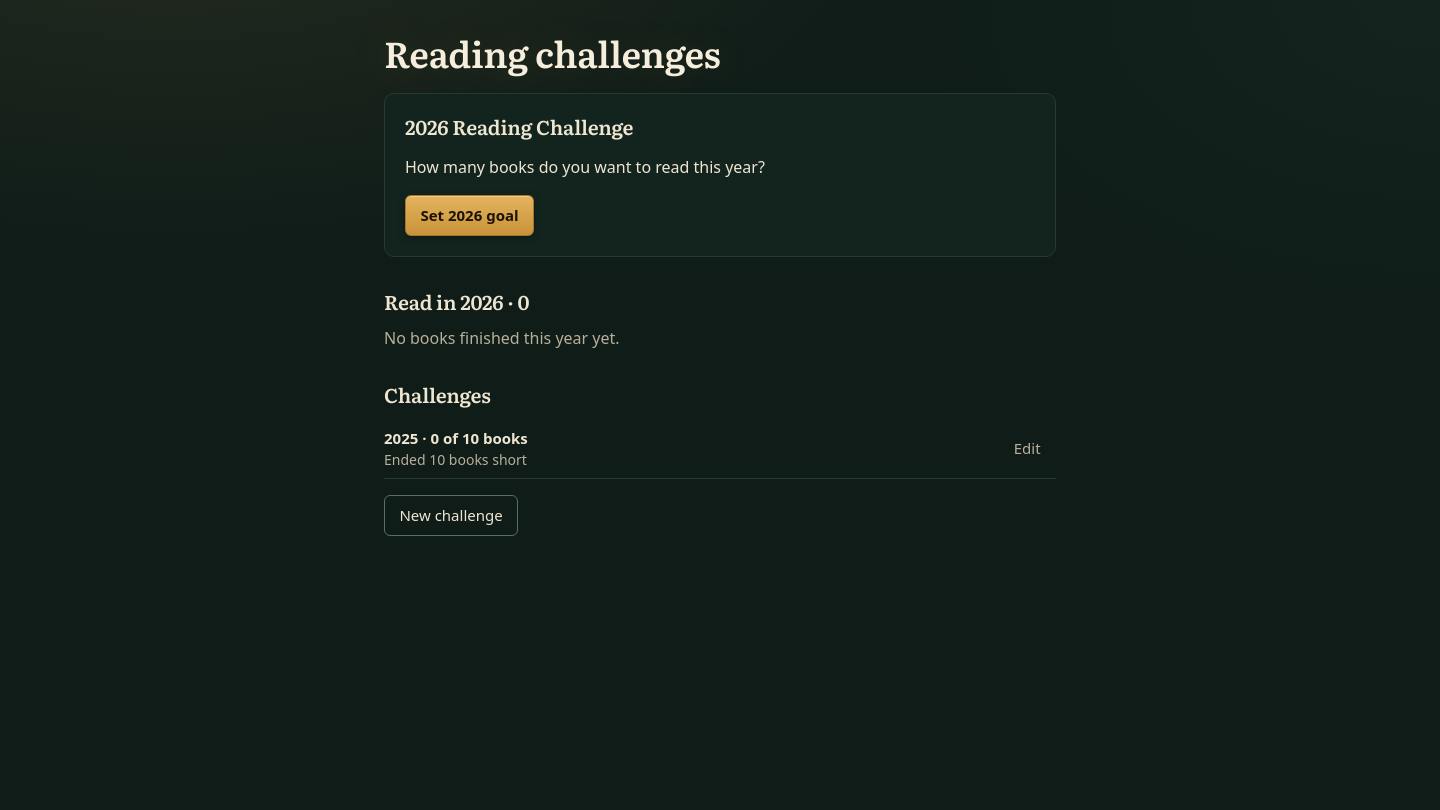
Test case: reading challenges › aGoalCanBeEditedAndRemoved
Click the button with aria-label "Edit 2025 goal" at (1027, 449), box x1=998 y1=428 x2=1056 y2=469
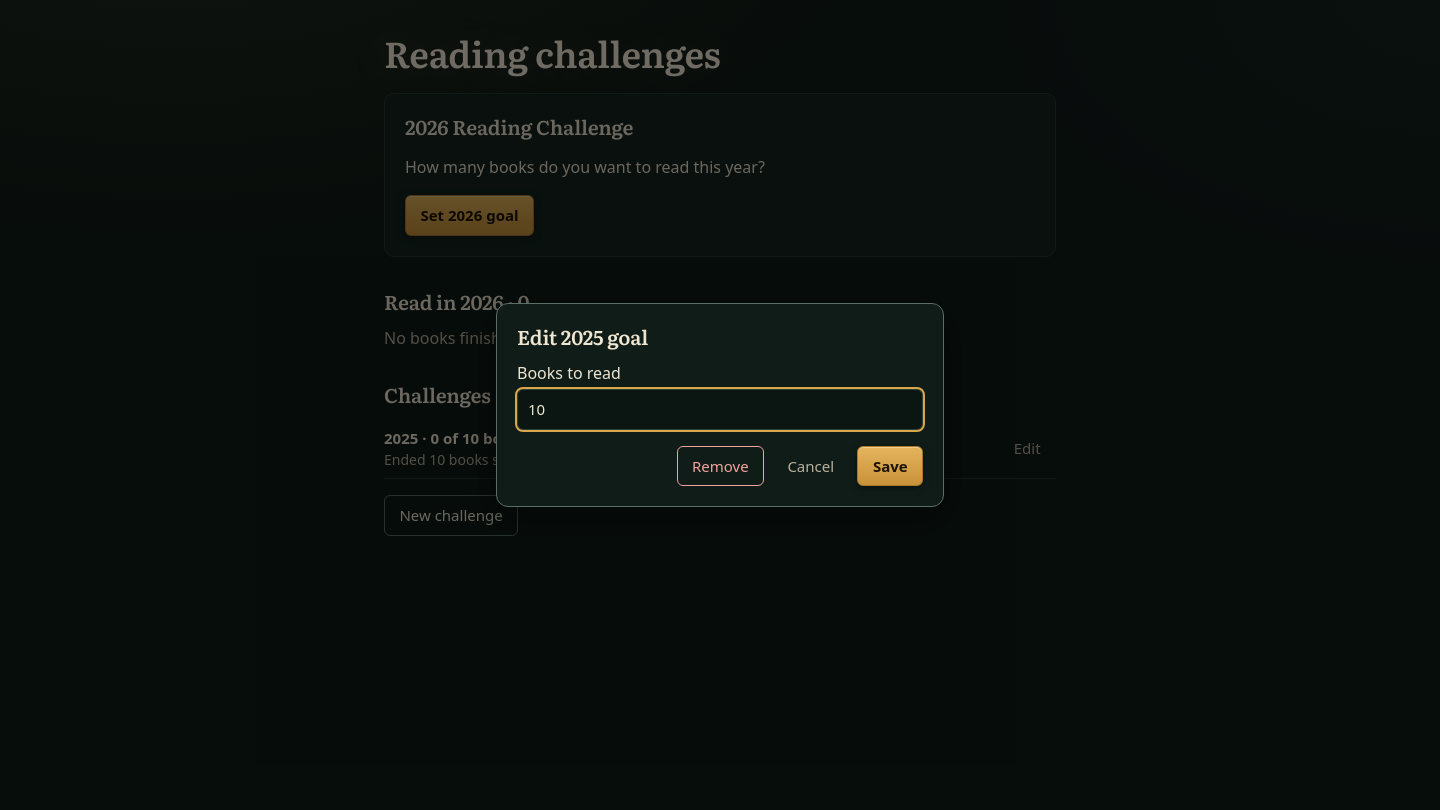
Expected: the field labelled "Books to read" holds "10"
Replace the text in the field labelled "Books to read" with "15" at (720, 409), box x1=517 y1=389 x2=923 y2=430
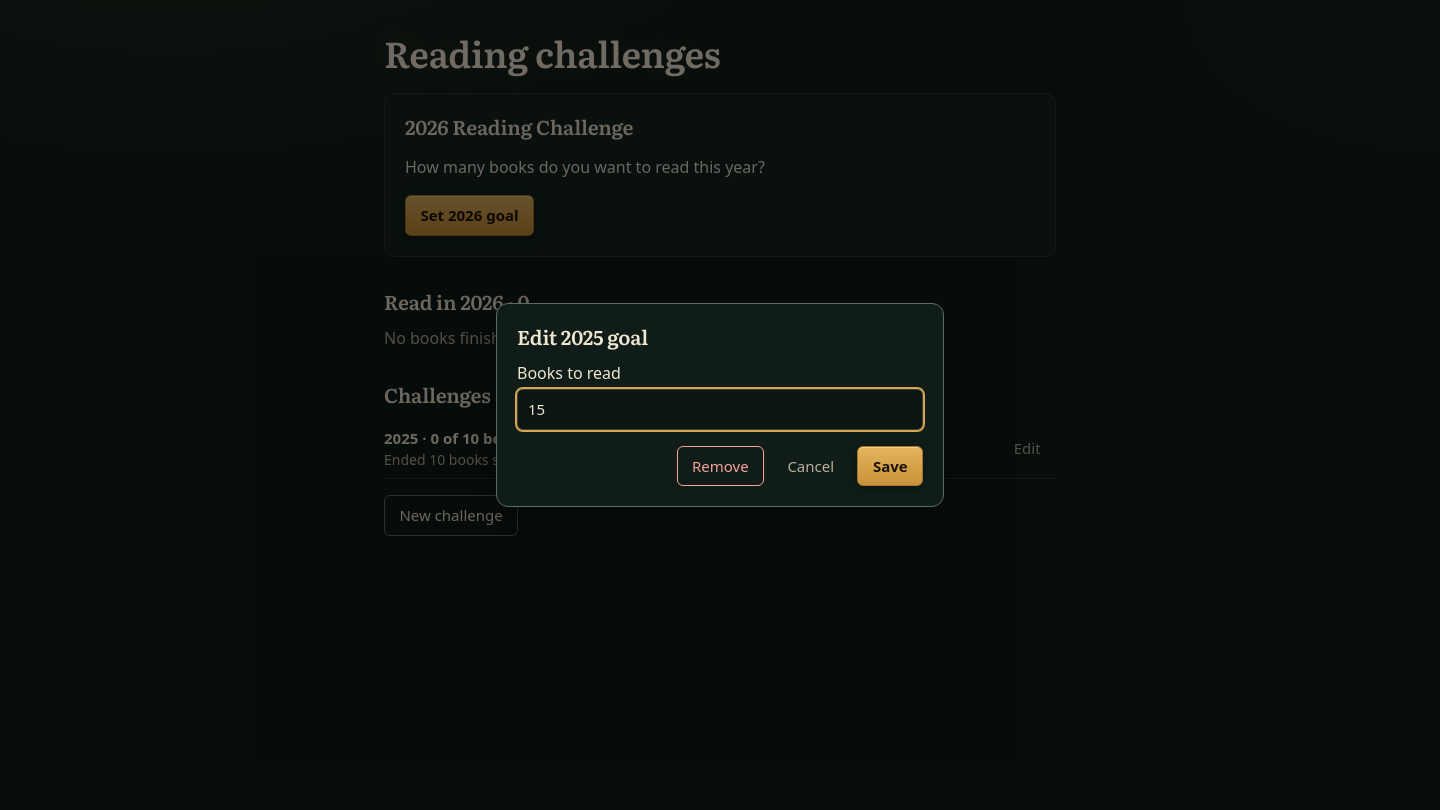
Click the button "Save" at (890, 466), box x1=858 y1=446 x2=923 y2=486
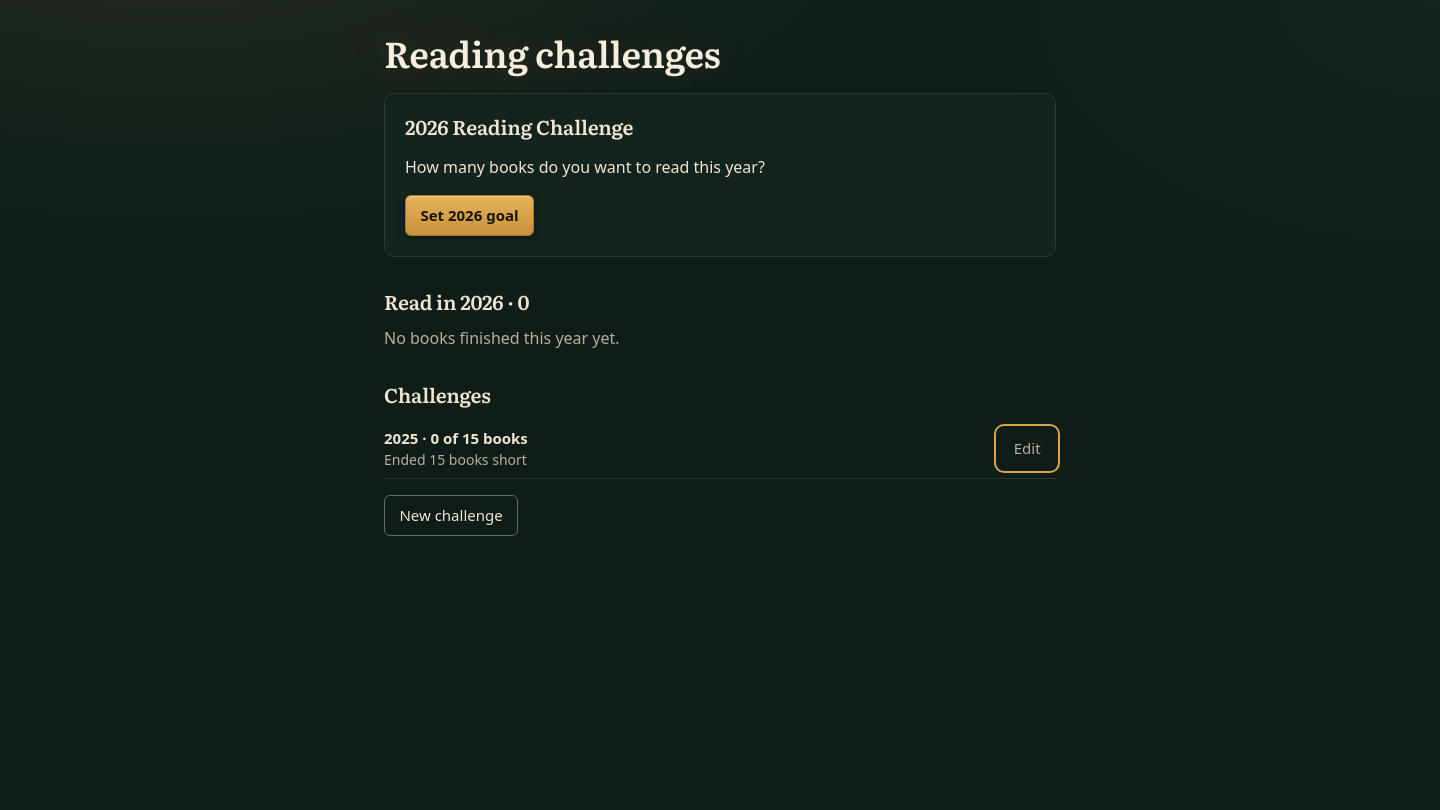
Click the button with aria-label "Edit 2025 goal" at (1027, 449), box x1=998 y1=428 x2=1056 y2=469
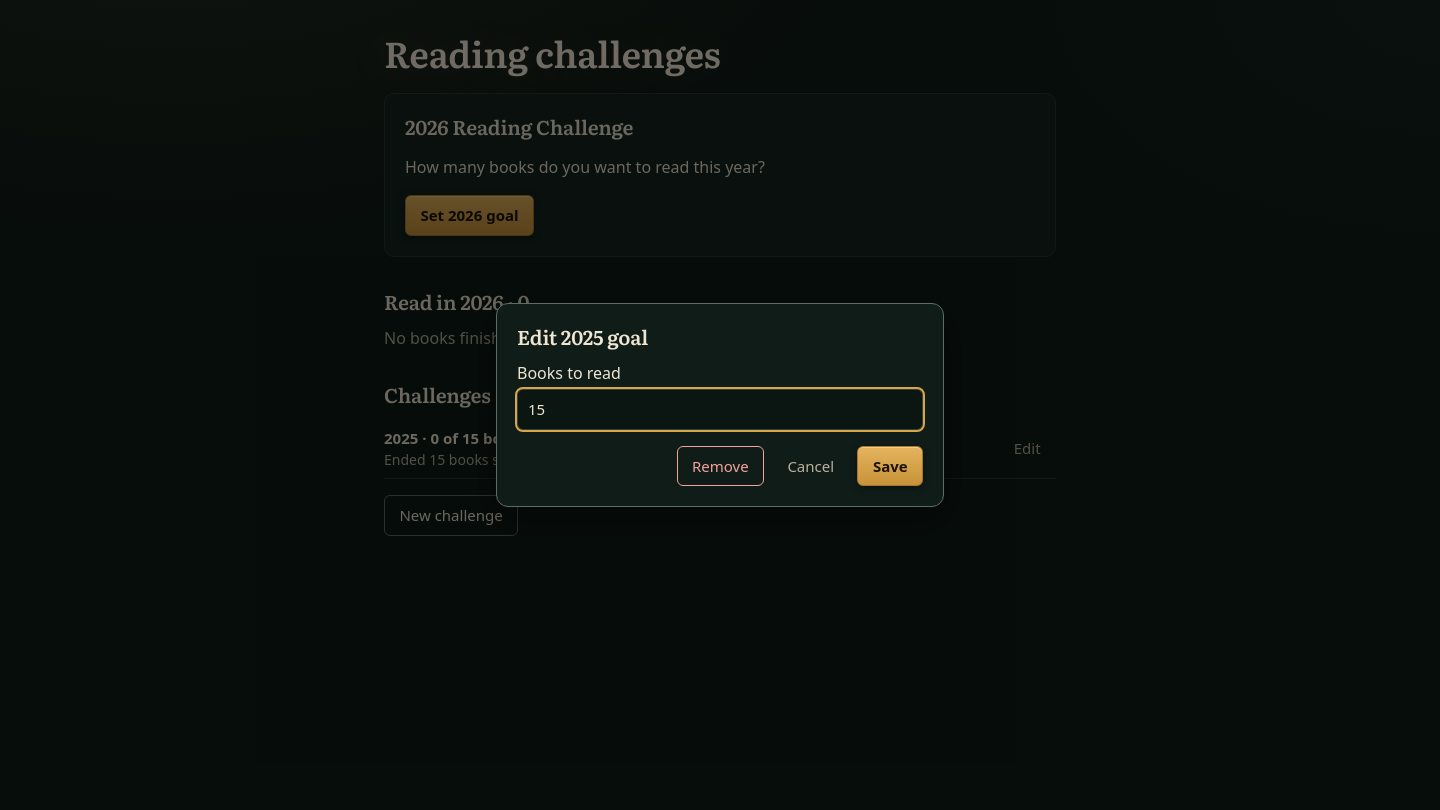
Click the button "Remove" at (720, 466), box x1=676 y1=446 x2=764 y2=486
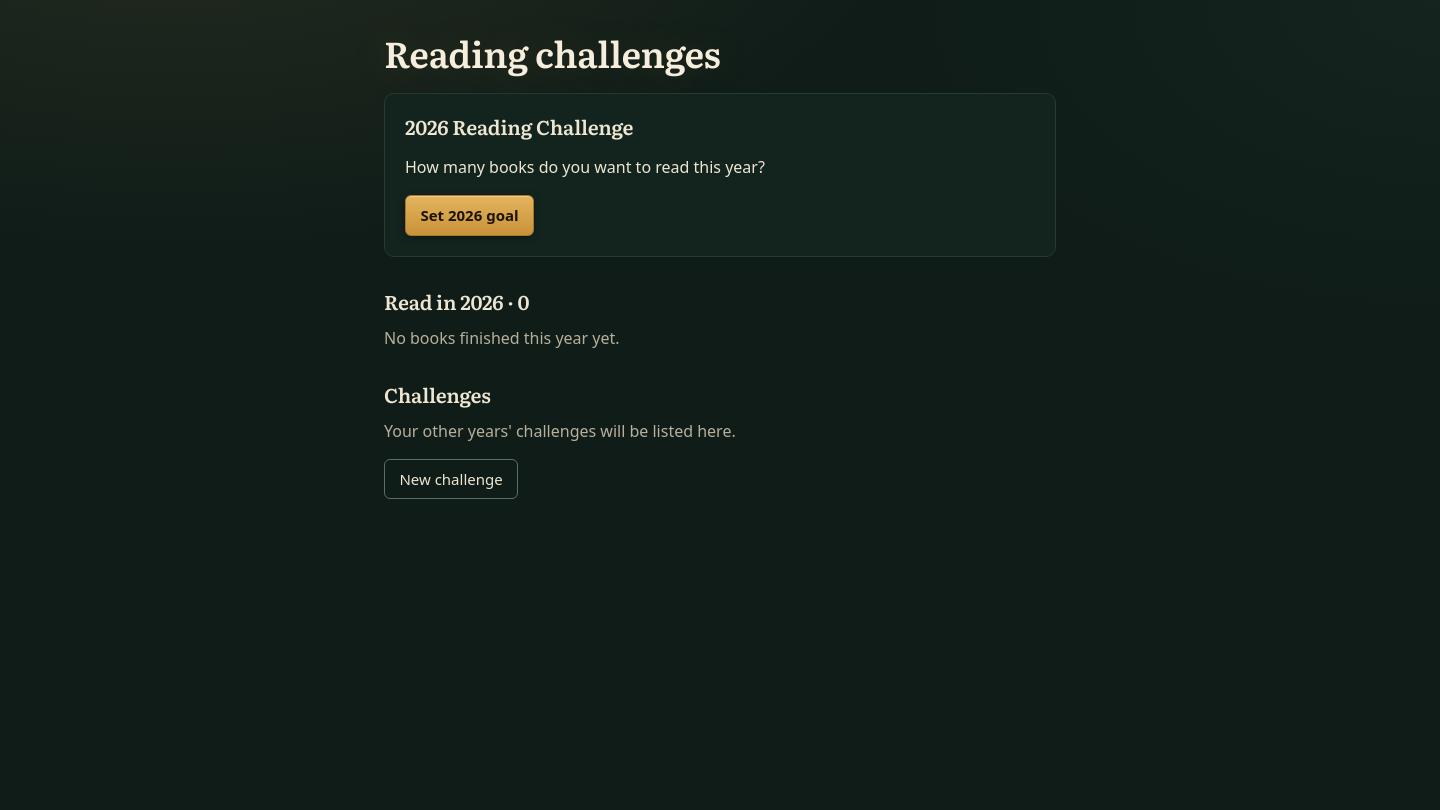
Expected: the button "2025 ·" is gone
